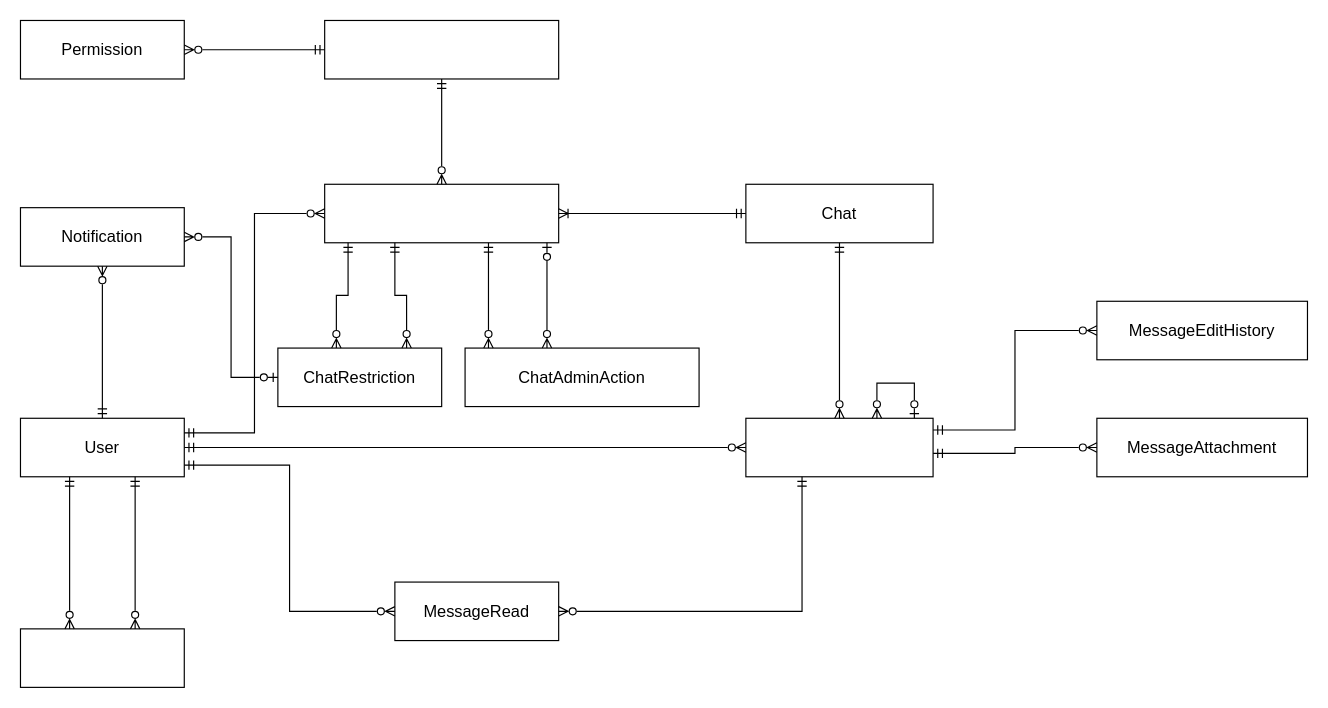
Some shapes in this 1328 by 708 pixel diagram are drawn without their labels. The box of each missing label's shape, as (x1, y1, x2, y2) in pixels:
ChatParticipant: (324, 183, 559, 243)
ChatRole: (324, 19, 559, 79)
Message: (745, 417, 933, 477)
UserBlock: (19, 628, 184, 687)
